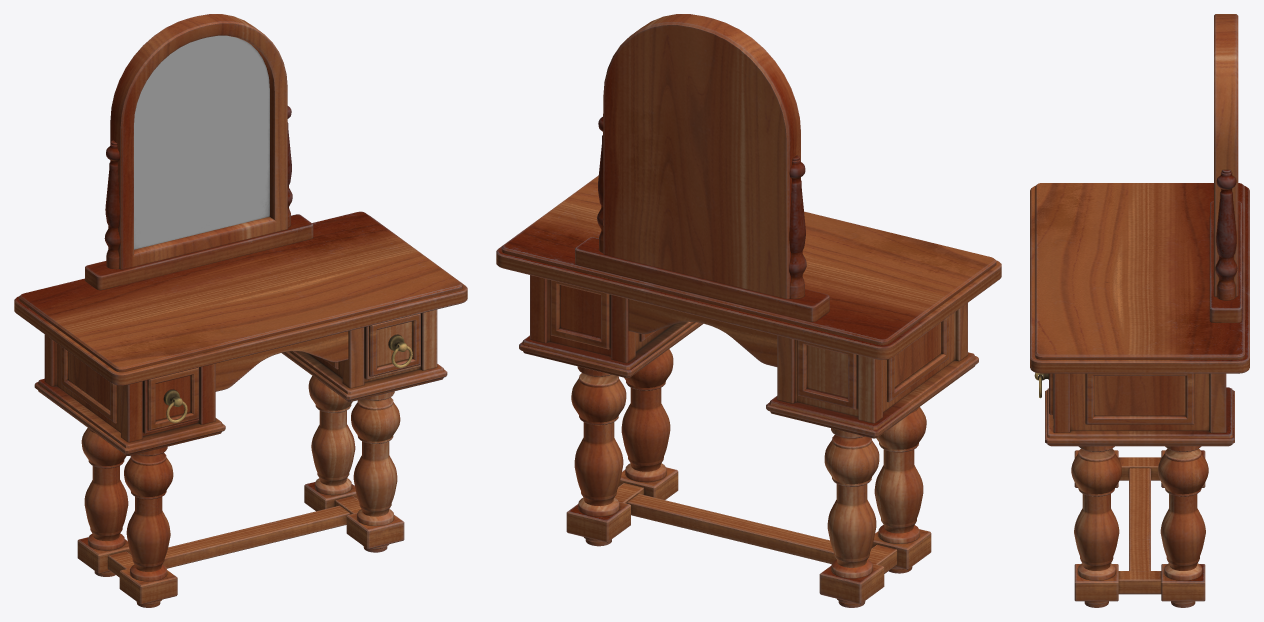
3 views of the same model, side by side, from view 1: azimuth 30°, elevation 25°; view 2: azimuth 150°, elevation 25°; view 3: azimuth 270°, elevation 25° (orthographic). The views are drawn at different scales.
Parts seen in each view (by area): view 1: Object_2; view 2: Object_2; view 3: Object_2.
Boxes of the visible parts, bbox=[...] form: Object_2: bbox=[14, 14, 467, 607]; Object_2: bbox=[496, 14, 1001, 607]; Object_2: bbox=[1030, 14, 1249, 607].
Bounding box in the file's own units: 2.21 × 3.02 × 1.15.
Materials: 1 (1 with a texture image).
